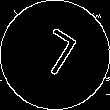L_SW: (29, 26, 81, 84)
